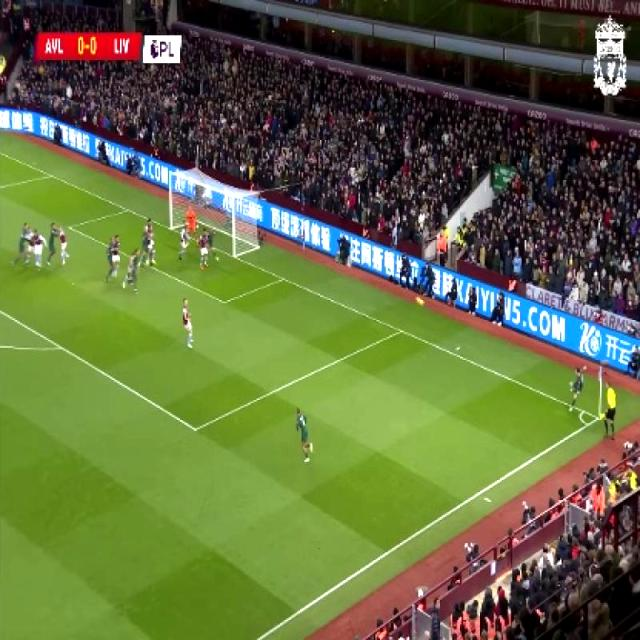bigarea_bottom_inner: (186, 415, 204, 443)
bigarea_bottom_outter: (392, 322, 408, 342)
bigarea_top_outter: (46, 168, 56, 182)
bottom_arc_area_intersection: (52, 336, 70, 360)
smallarea_bottom_inner: (218, 291, 232, 311)
smallarea_bottom_outter: (275, 269, 290, 286)
smallarea_top_inner: (62, 218, 76, 234)
smallarea_top_outter: (121, 201, 132, 216)
